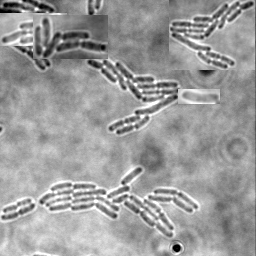Dividing: (1, 204, 37, 222), (3, 199, 33, 215)
Microcolony: (40, 167, 199, 238), (87, 59, 181, 136), (169, 0, 255, 70), (33, 15, 108, 59), (0, 13, 67, 46), (1, 1, 56, 13), (178, 89, 220, 104)
